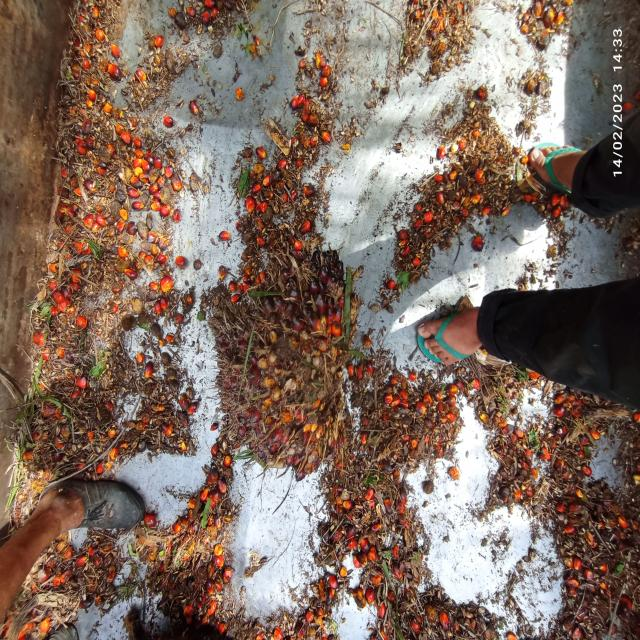fraksi 1: (208, 242, 368, 482)
